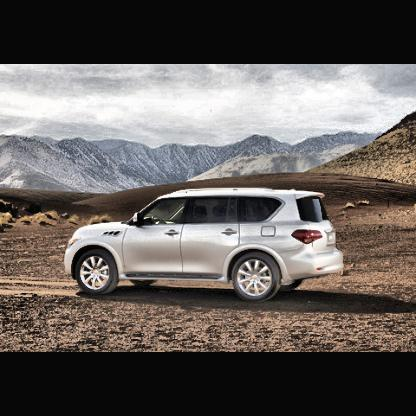Infiniti QX56 SUV 2011: (66, 188, 345, 305)
